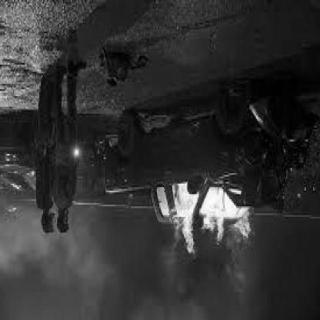Fire: (147, 180, 257, 253)
